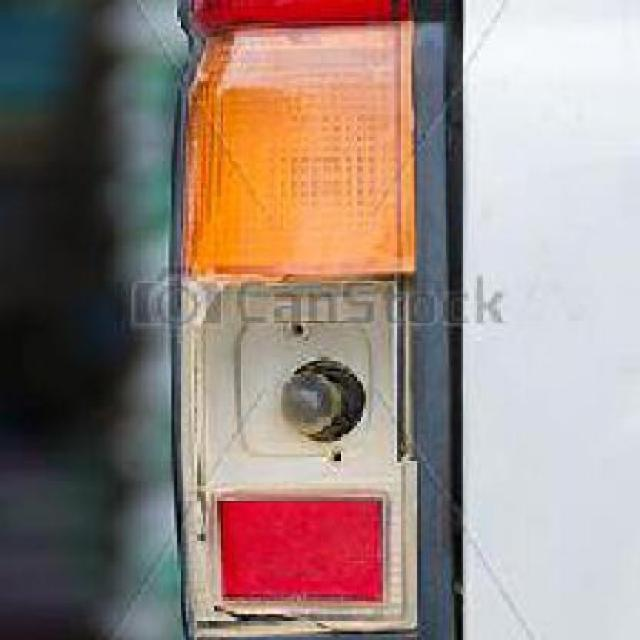damaged-tail-light: (174, 0, 428, 637)
